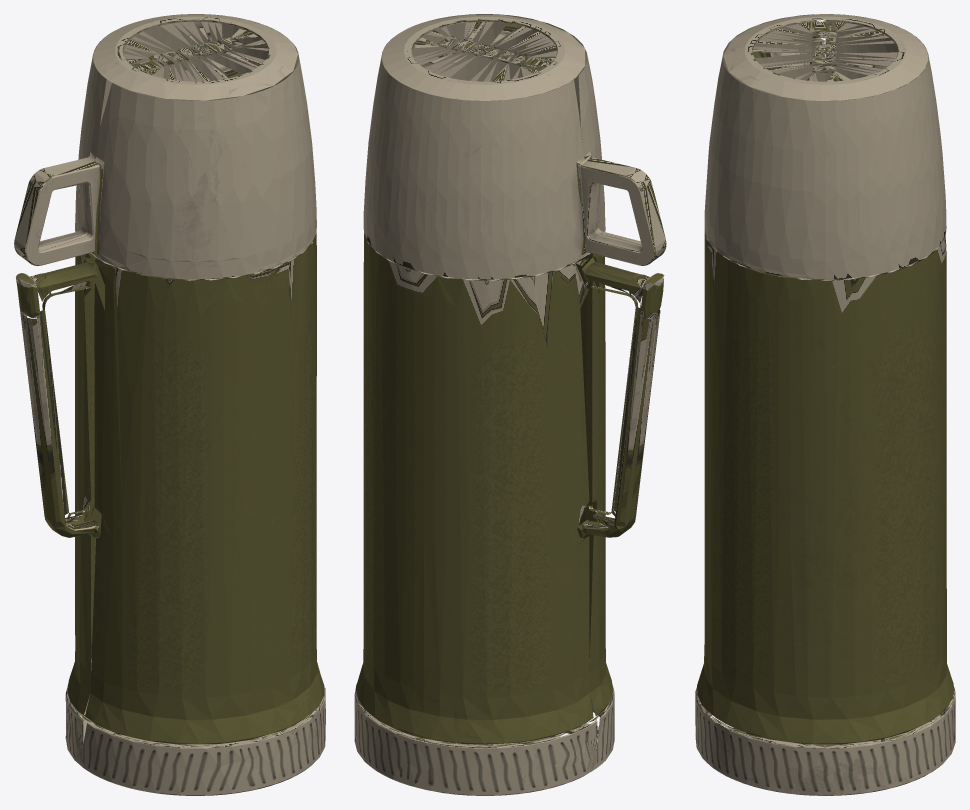
The model's file is PlasticThermos.obj.
3 views of the same model, side by side, from view 1: azimuth 30°, elevation 25°; view 2: azimuth 150°, elevation 25°; view 3: azimuth 270°, elevation 25° (orthographic).
Visible parts, largest first — view 1: part0; view 2: part0; view 3: part0.
Part boxes in pixels (<box>): part0: <box>14,14,325,795</box>; part0: <box>354,14,666,795</box>; part0: <box>695,14,955,795</box>.
Bounding box in the file's own units: 0.1404 × 0.3204 × 0.1093.
Materials: 1 (1 with a texture image).
